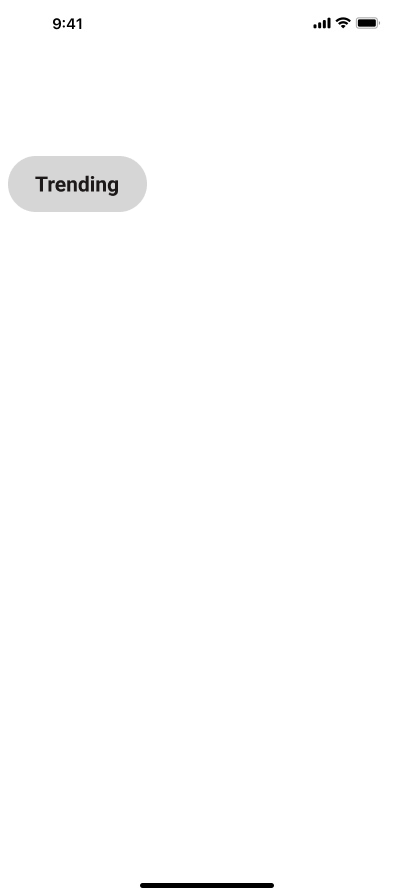Buttons: (8, 156, 155, 212)
Home Indicator: (0, 862, 414, 896)
Status Bar: (0, 0, 414, 44)
